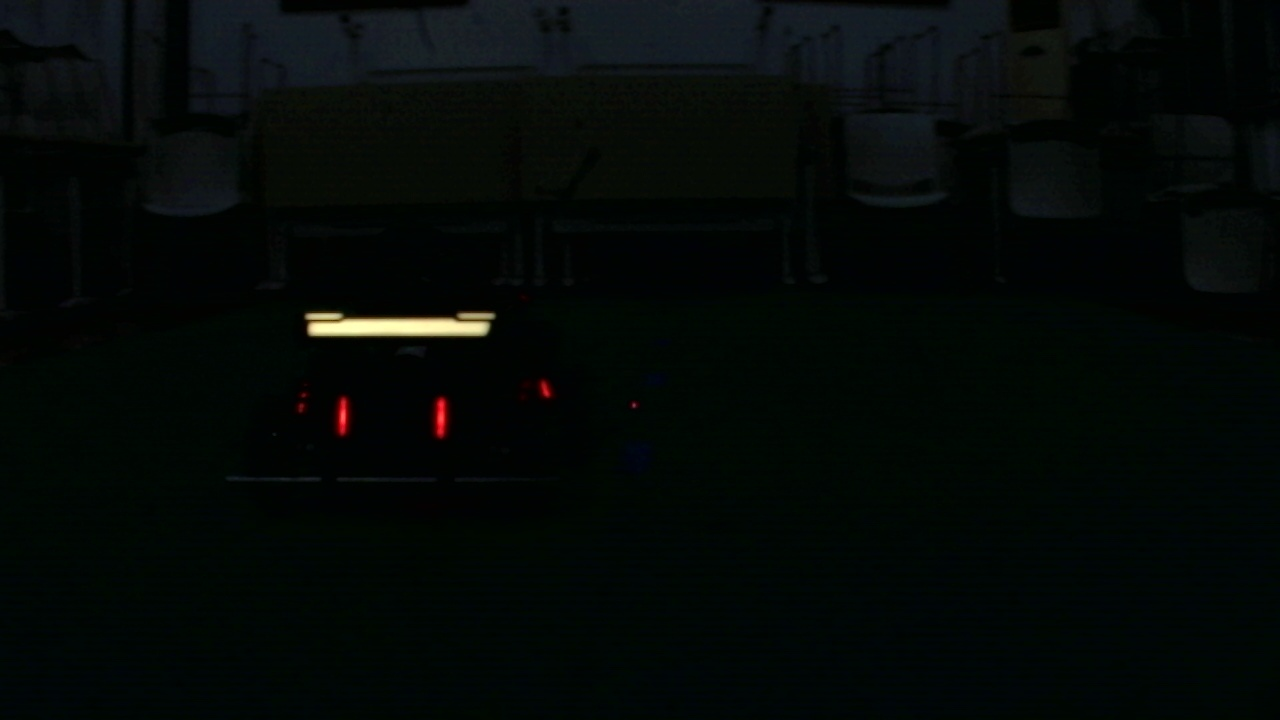lamp: (333, 393, 354, 437), (432, 399, 450, 444)
pair1: (336, 396, 448, 436)
